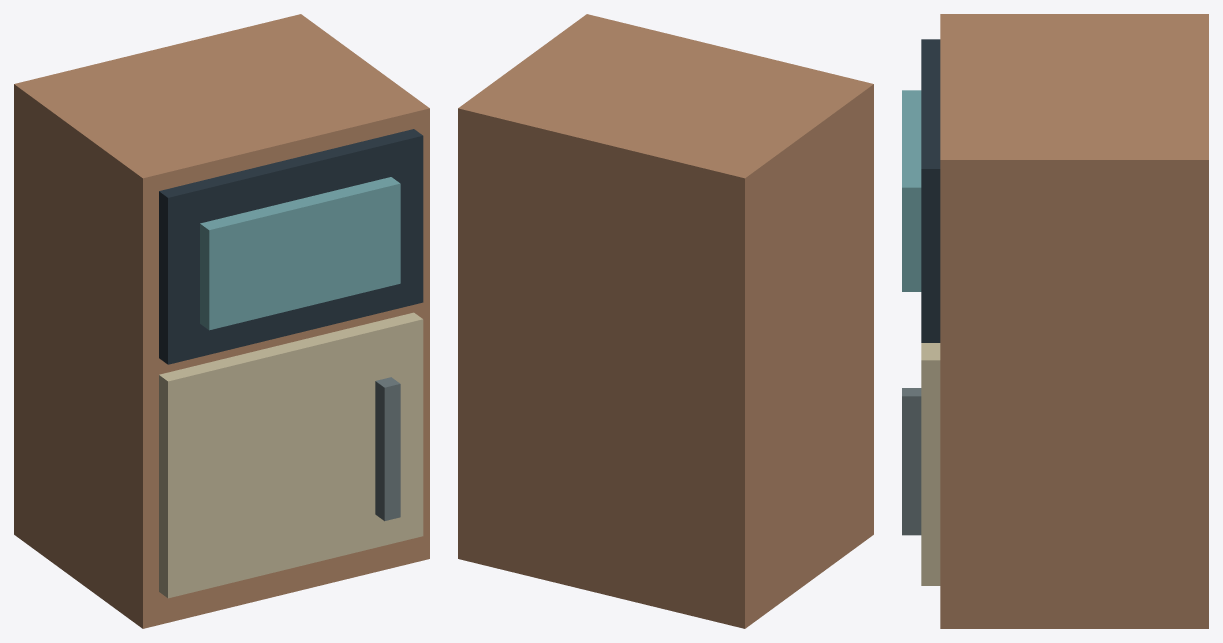
Rendered from food-01.glb.
3 renders of one model, left to right at view 1: azimuth 30°, elevation 25°; view 2: azimuth 150°, elevation 25°; view 3: azimuth 270°, elevation 25°, orthographic. The views are drawn at different scales.
Visible parts, largest first — view 1: Pizza oven; view 2: Pizza oven; view 3: Pizza oven.
Boxes of the visible parts, <box> form: Pizza oven: <box>14,14,429,628</box>; Pizza oven: <box>458,14,873,628</box>; Pizza oven: <box>902,14,1208,628</box>.
Size of the model in its own units: 1.44 by 2.16 by 1.28.
